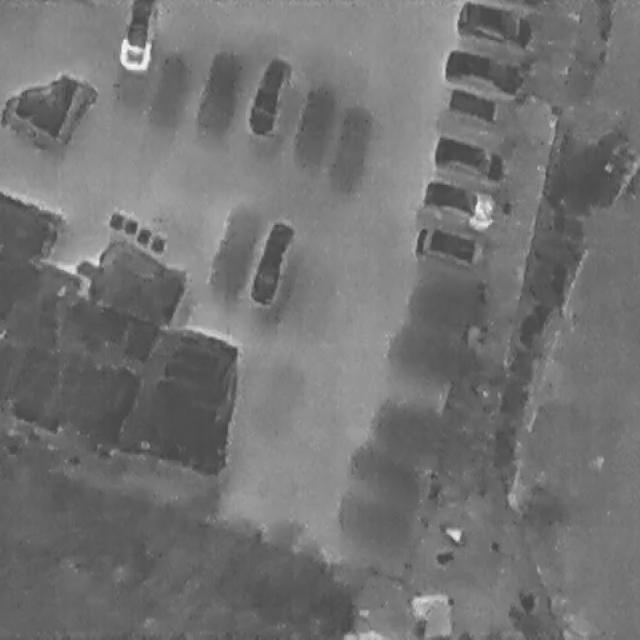Car: (441, 40, 526, 101), (246, 212, 297, 308), (429, 132, 508, 190), (419, 174, 499, 231), (244, 49, 291, 141), (454, 0, 533, 51), (413, 224, 485, 271), (118, 0, 156, 69)
